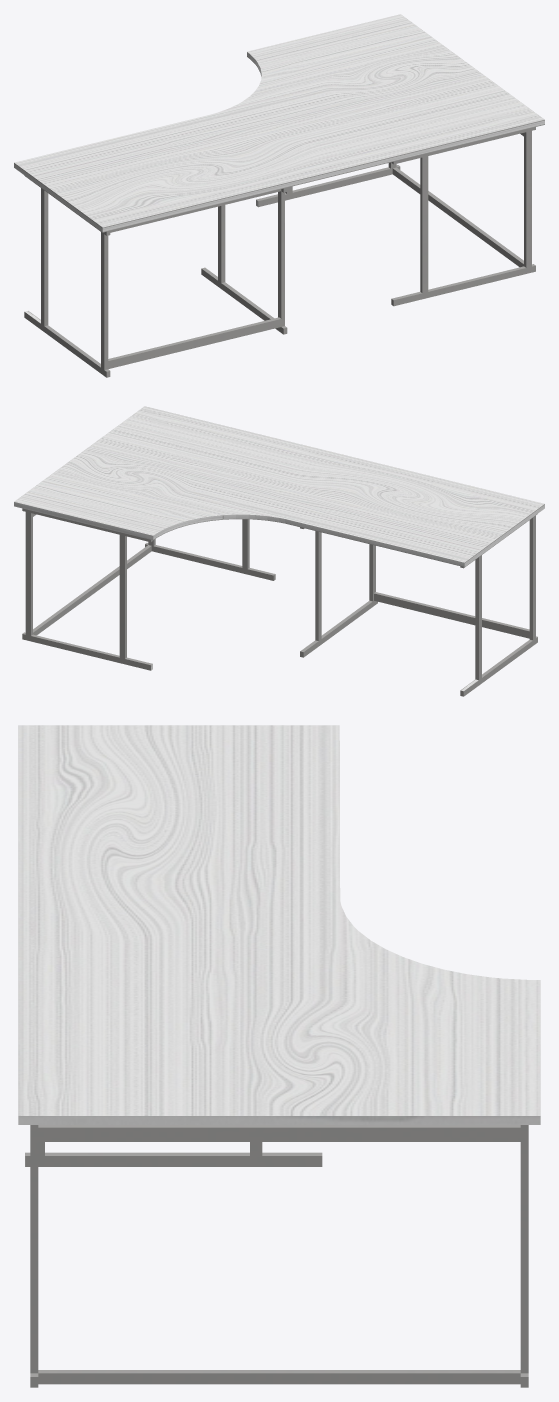
The picture shows the model from 3 angles, top to bottom: view 1: azimuth 30°, elevation 25°; view 2: azimuth 150°, elevation 25°; view 3: azimuth 270°, elevation 25°; orthographic projection. The views are drawn at different scales.
Visible parts, largest first — view 1: Stul_L_Levy; view 2: Stul_L_Levy; view 3: Stul_L_Levy.
Boxes of the visible parts, x1,y1,x2,y2 form: Stul_L_Levy: (14, 14, 544, 377); Stul_L_Levy: (14, 406, 544, 696); Stul_L_Levy: (18, 725, 540, 1387).
Bounding box in the file's own units: 2.3 × 1.3 × 0.76.
